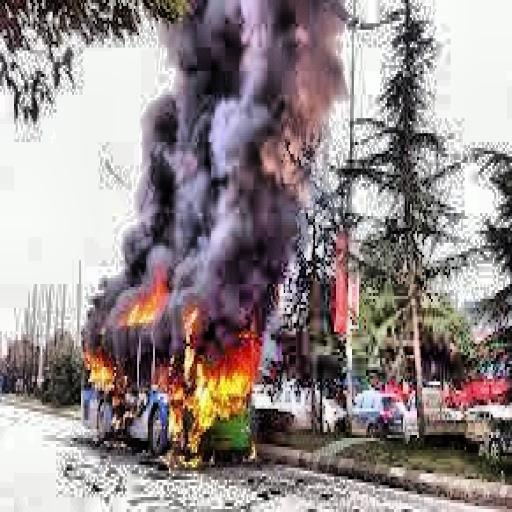fire: (158, 317, 268, 485), (78, 304, 128, 390), (120, 264, 170, 340)
